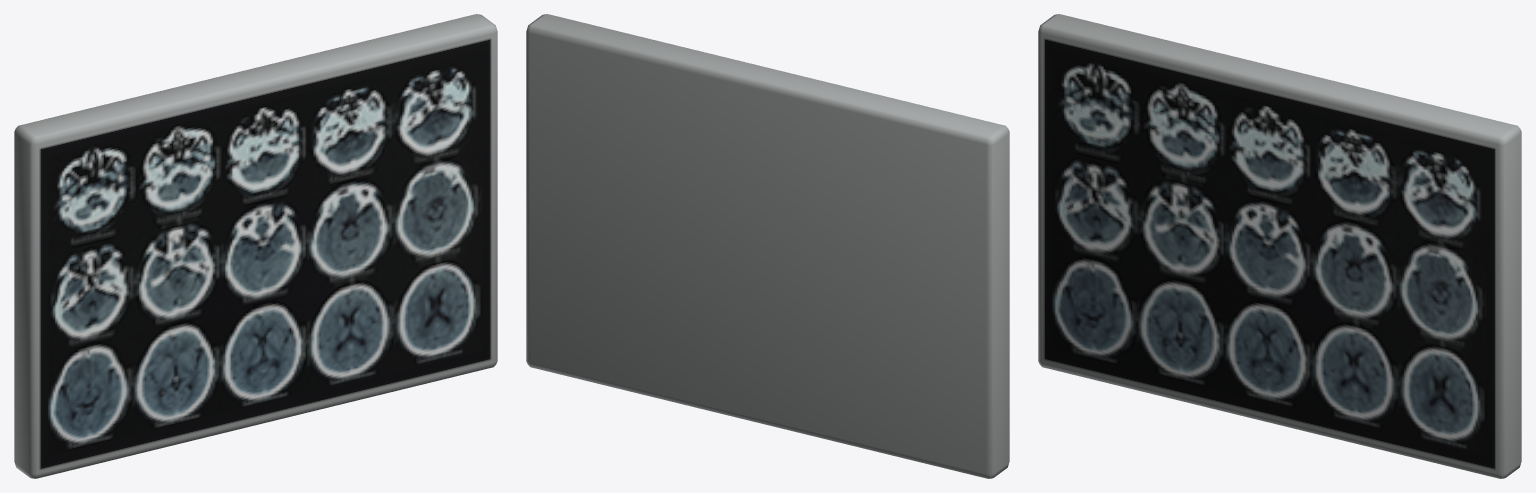
Rendered from view box1.FBX.
3 renders of one model, left to right at view 1: azimuth 30°, elevation 25°; view 2: azimuth 150°, elevation 25°; view 3: azimuth 330°, elevation 25°, orthographic.
Parts seen in each view (by area): view 1: view box1; view 2: view box1; view 3: view box1.
Boxes of the visible parts, bbox=[...] form: view box1: bbox=[14, 14, 497, 478]; view box1: bbox=[526, 14, 1009, 478]; view box1: bbox=[1038, 14, 1521, 478].
Bounding box in the file's own units: 41.24 × 3 × 28.89.
